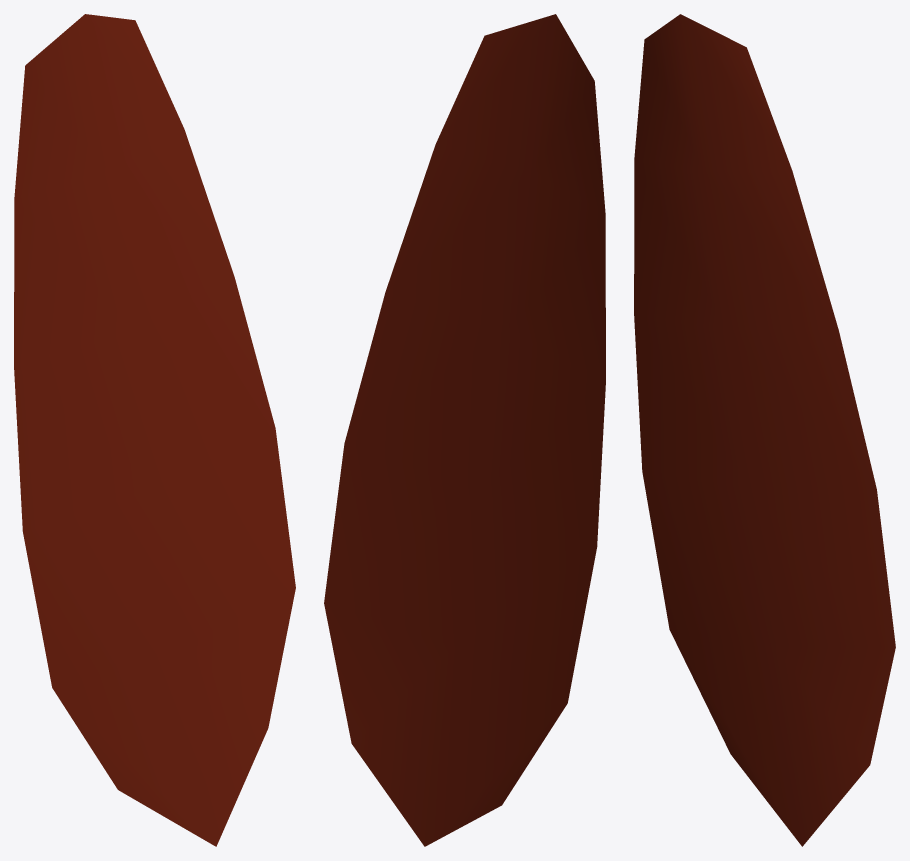
The model's file is pheasant_feather_flight_tertiary_025.obj.
The picture shows the model from 3 angles, left to right: view 1: azimuth 30°, elevation 25°; view 2: azimuth 150°, elevation 25°; view 3: azimuth 330°, elevation 25°; orthographic projection. The views are drawn at different scales.
Parts seen in each view (by area): view 1: feather_flight_tertiary_025; view 2: feather_flight_tertiary_025; view 3: feather_flight_tertiary_025.
Boxes of the visible parts, left/top/right/bottom form: feather_flight_tertiary_025: left=14, top=14, right=295, bottom=846; feather_flight_tertiary_025: left=324, top=14, right=605, bottom=846; feather_flight_tertiary_025: left=634, top=14, right=895, bottom=846.
Size of the model in its own units: 0.00977 by 0.0286 by 0.000634.
